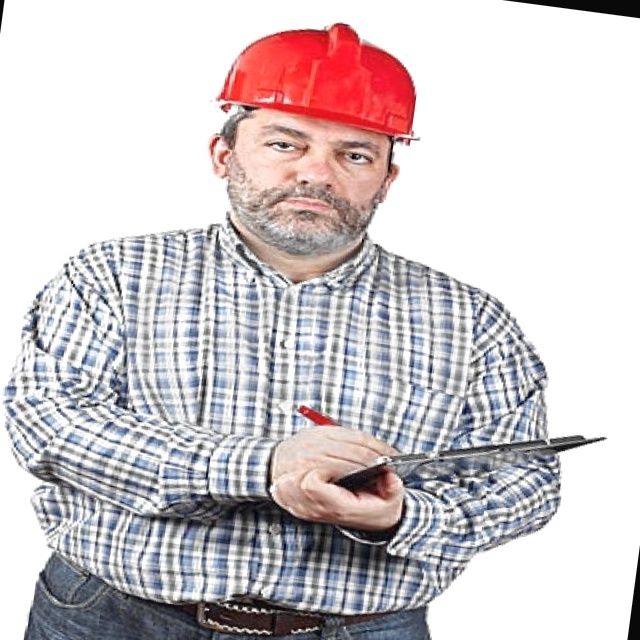Con_Casco: (202, 8, 432, 261)
